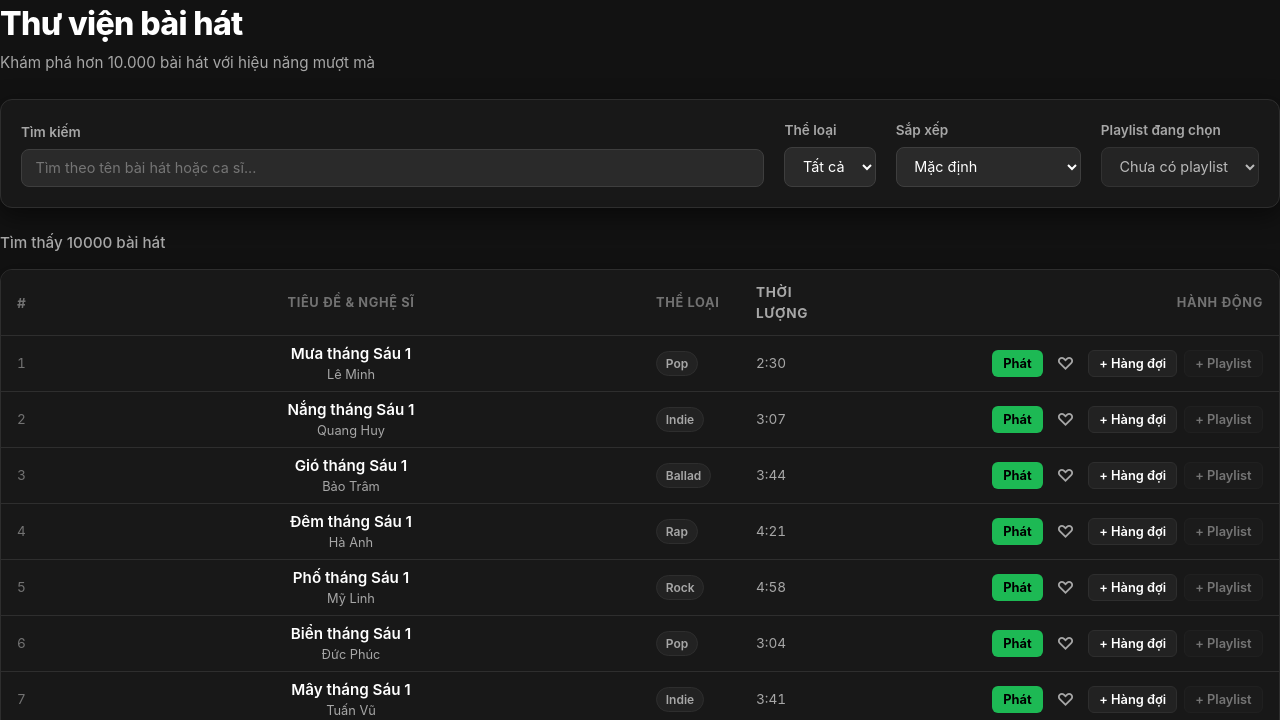
Test: Kiểm thử component LibraryPage › gõ "xyz" thì hiển thị thông báo "Không tìm thấy bài hát nào"
Type "xyz" into the field labelled "Tìm kiếm" at (393, 168), box x1=21 y1=149 x2=764 y2=187
Wait 300 ms
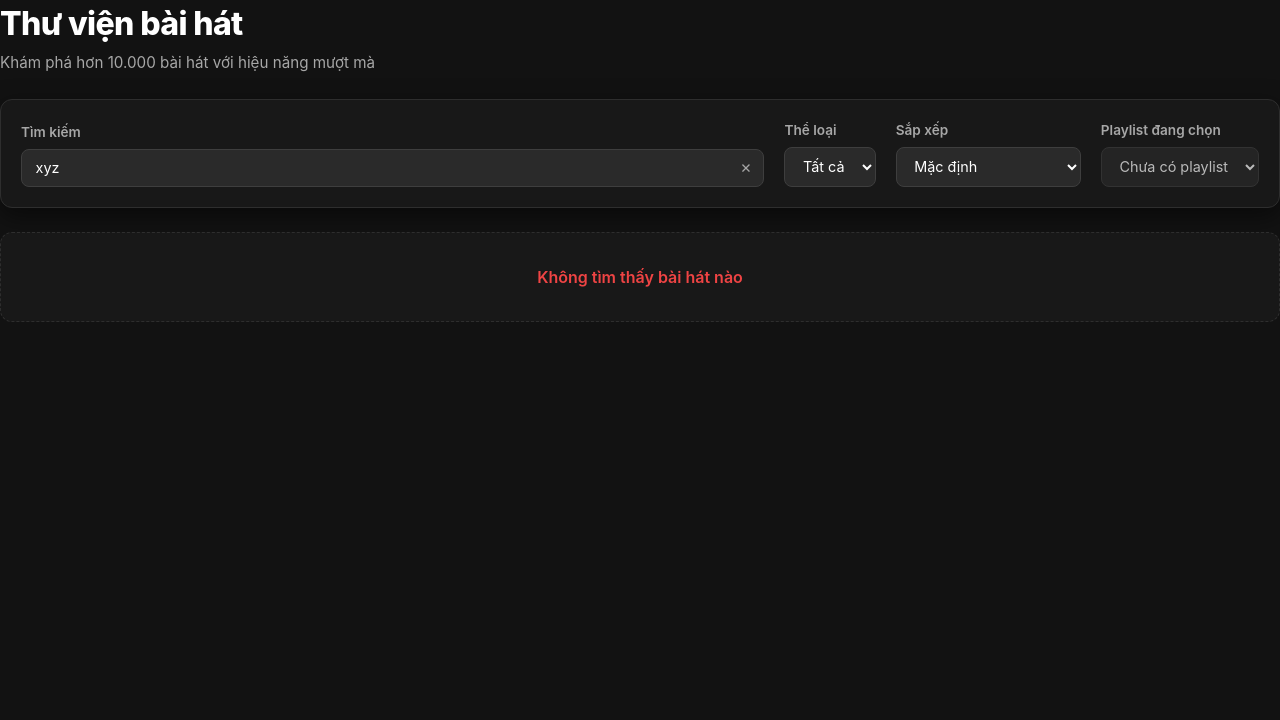
Check: the text "Không tìm thấy bài hát nào" is shown, box x1=0 y1=232 x2=1279 y2=322
